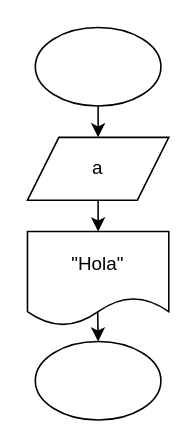
The diagram is 196 pixels wide and 447 high, and some of its shapes have lost their labels. Each missing label, with the centre of its shape:
FIN: [97,380]
INICIO: [97,66]
